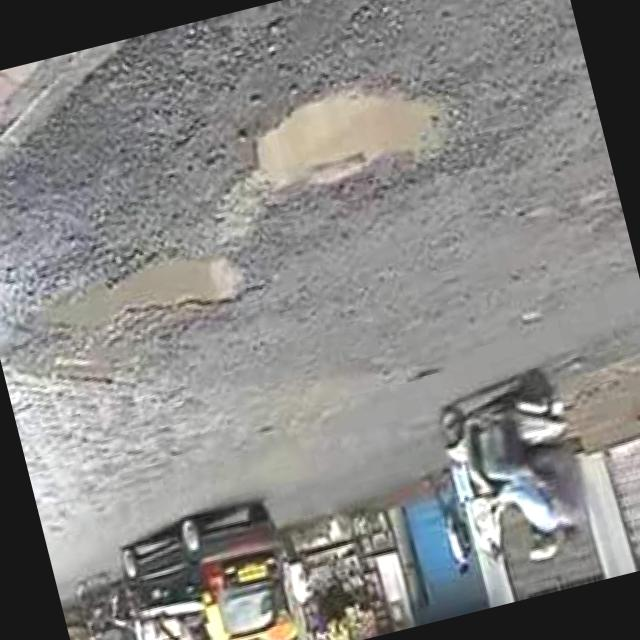pothole: (234, 72, 468, 226), (10, 240, 268, 362)
